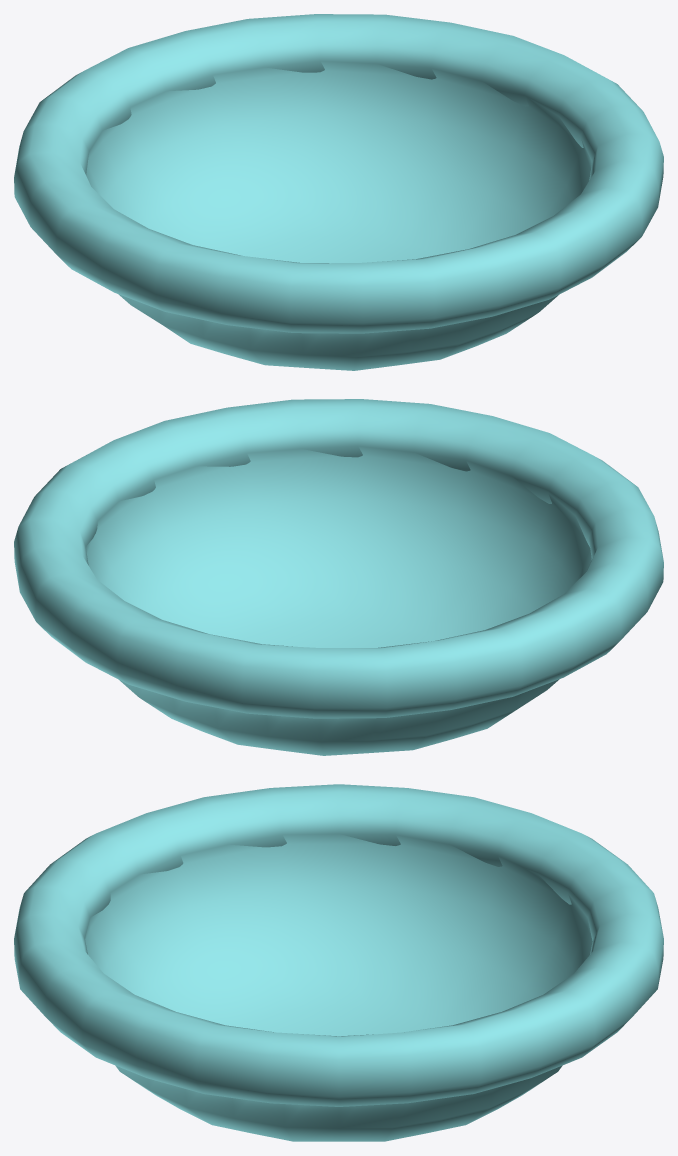
Rendered from plate_new.fbx.
3 renders of one model, top to bottom at view 1: azimuth 30°, elevation 25°; view 2: azimuth 150°, elevation 25°; view 3: azimuth 270°, elevation 25°, orthographic.
Visible parts, largest first — view 1: plate; view 2: plate; view 3: plate.
Part boxes in pixels (<box>): plate: <box>14,14,663,370</box>; plate: <box>14,399,663,755</box>; plate: <box>14,784,663,1141</box>.
Bounding box in the file's own units: 143 × 38.13 × 142.
